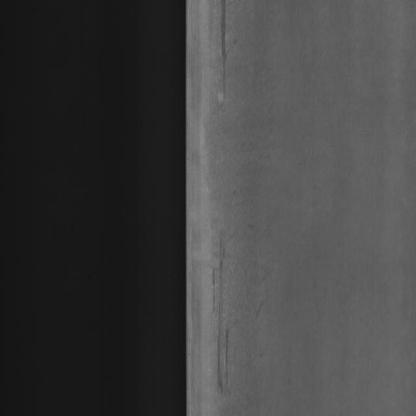silk_spot: (238, 36, 268, 346)
water_spot: (208, 233, 233, 394), (213, 1, 232, 105)
